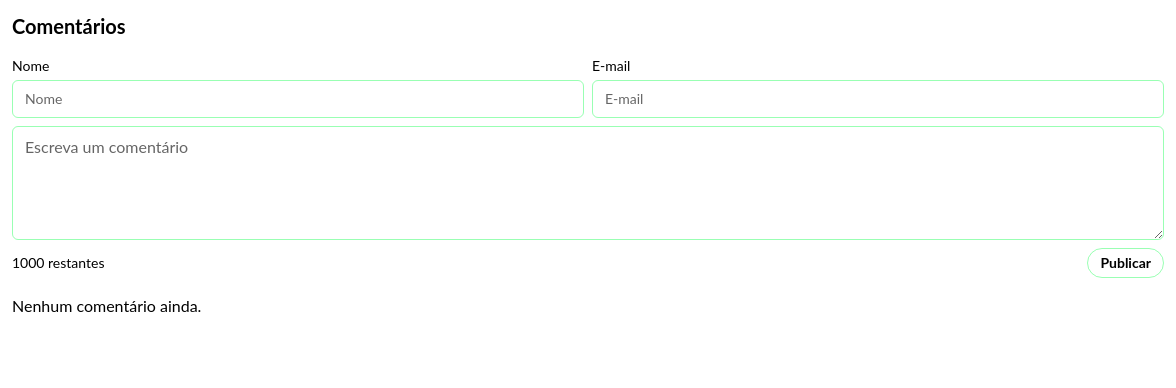
Test: asks for a name and email and publishes when approval is automatic
In the field labelled "Nome": (298, 99) [12,80,584,118], type "Ada"
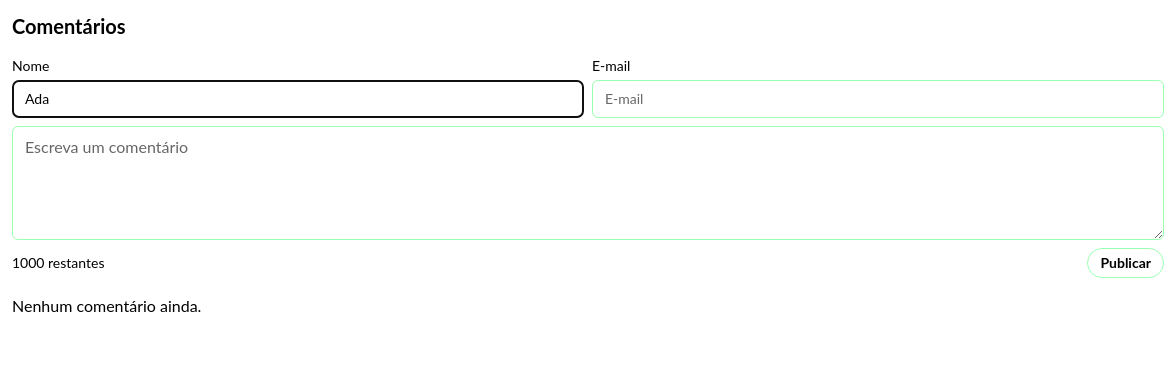
In the field labelled "E-mail": (878, 99) [592,80,1164,118], type "ada@example.com"
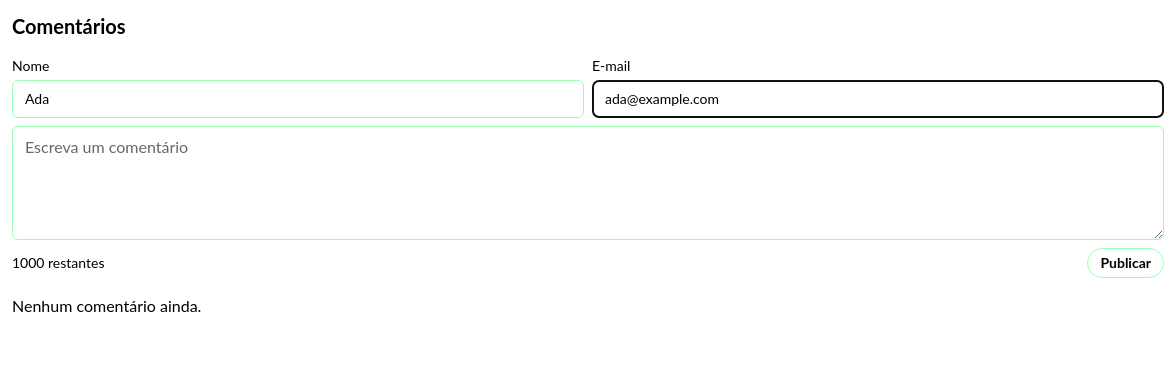
In the text box labelled "Escreva um comentário": (588, 183) [12,126,1164,240], type "Olá"
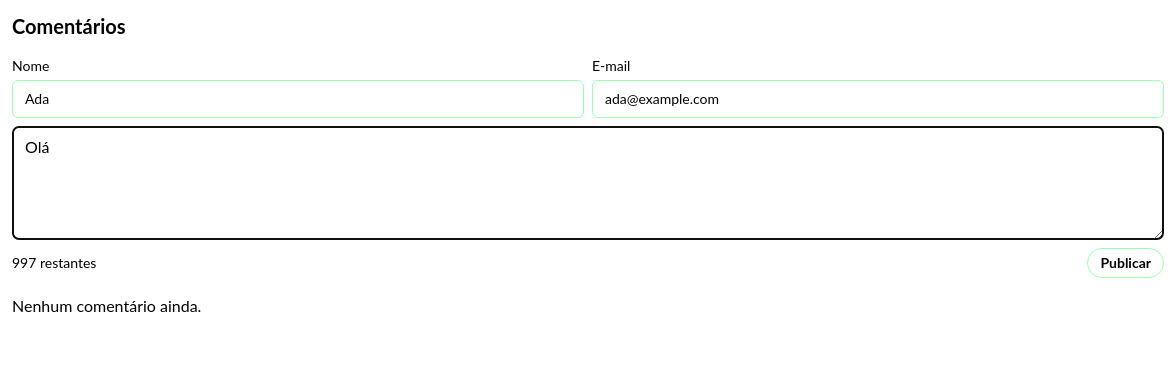
Click the button "Publicar": (1126, 263) [1087,248,1164,278]
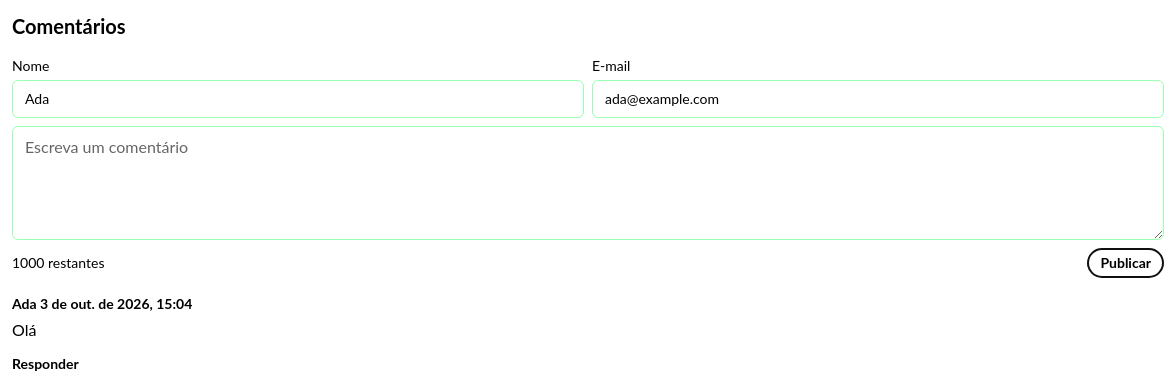
Now the text "Olá" is shown, box [12,320,36,339]
